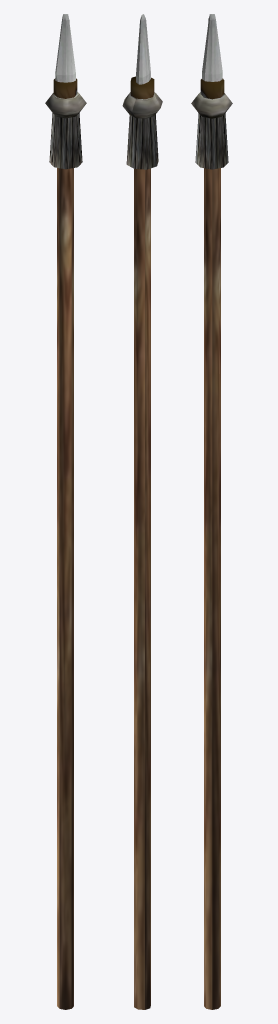
Rendered from inca_spear_big.dae.
The picture shows the model from 3 angles, left to right: view 1: azimuth 90°, elevation 25°; view 2: azimuth 150°, elevation 25°; view 3: azimuth 270°, elevation 25°; orthographic projection.
Parts seen in each view (by area): view 1: spearbig; view 2: spearbig; view 3: spearbig.
Part boxes in pixels (box(x1,y1,x2,y2)): spearbig: box(45, 14, 86, 1009); spearbig: box(122, 14, 162, 1009); spearbig: box(191, 14, 232, 1009).
Size of the model in its own units: 0.2644 by 0.4606 by 6.92.
